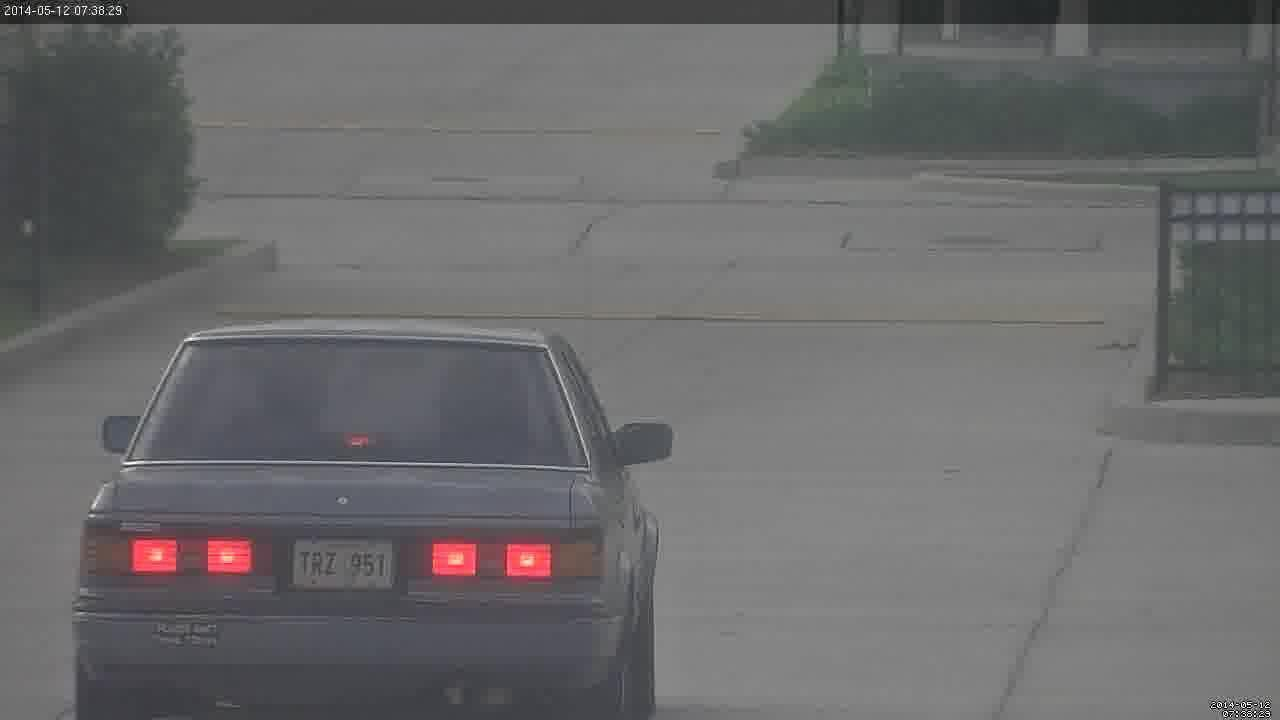placa de veiculo: (267, 528, 407, 601)
